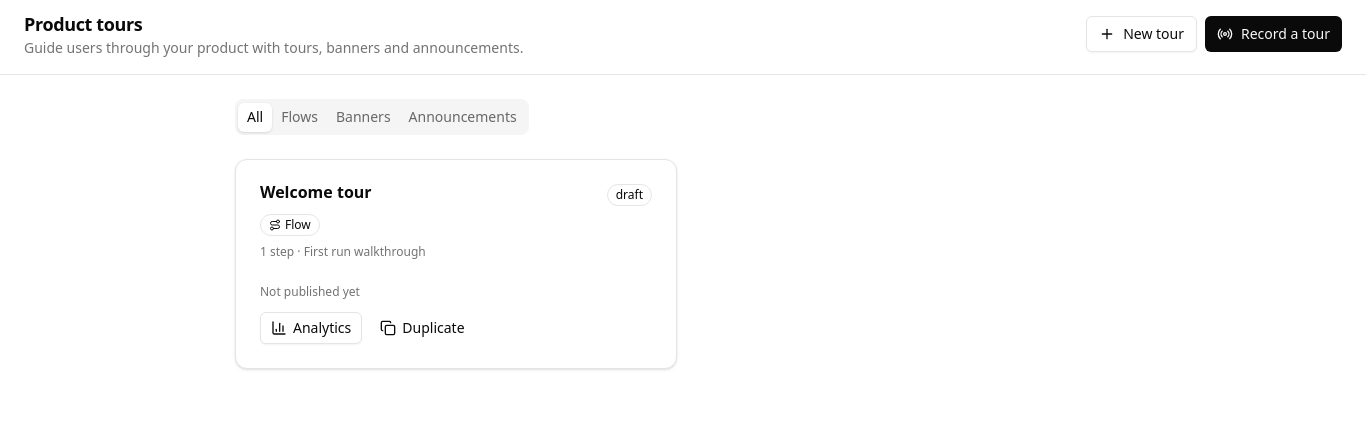
Scenario: ToursPage › shows a kind-specific empty state
This screenshot has width=1366, height=444.
Expected: the element with test id "tour-card" is shown, x1=235 y1=159 x2=677 y2=369
Step 1. Click the tab "Banners" → (363, 117), box x1=327 y1=102 x2=400 y2=132
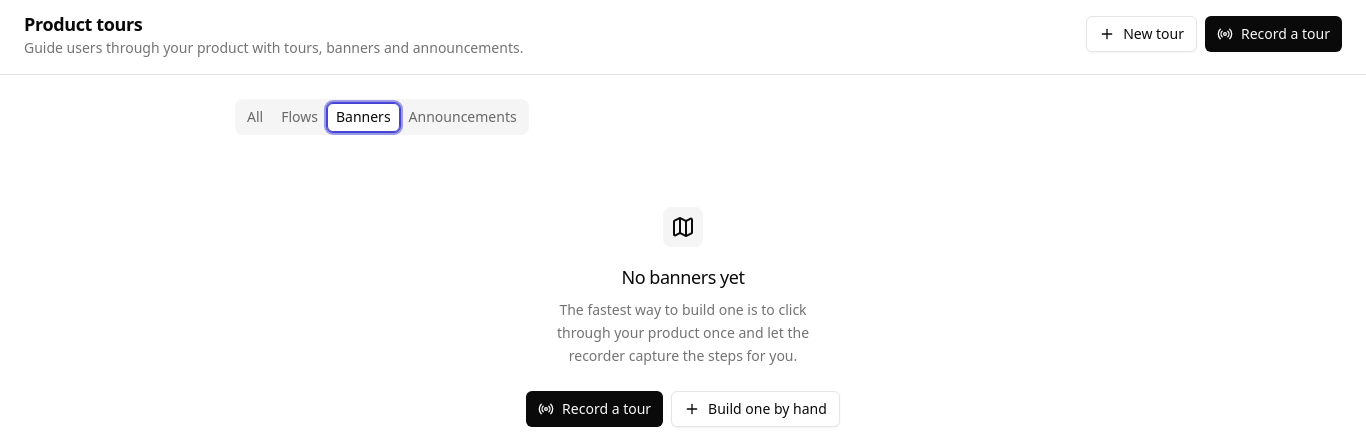
Result: the text "No banners yet" is shown at x1=622 y1=263 x2=745 y2=291
